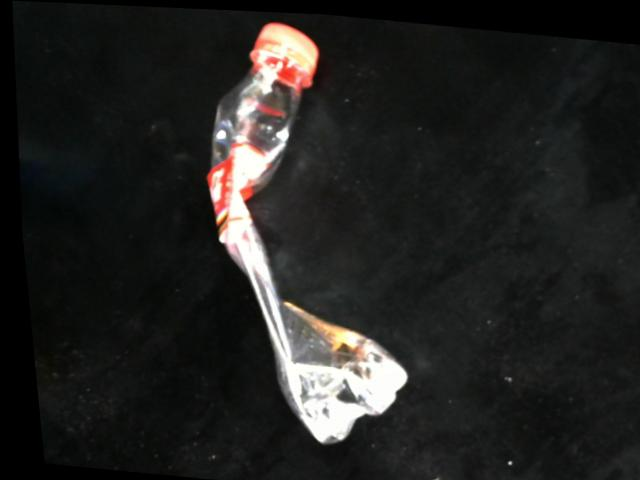bottle: (206, 18, 406, 453)
